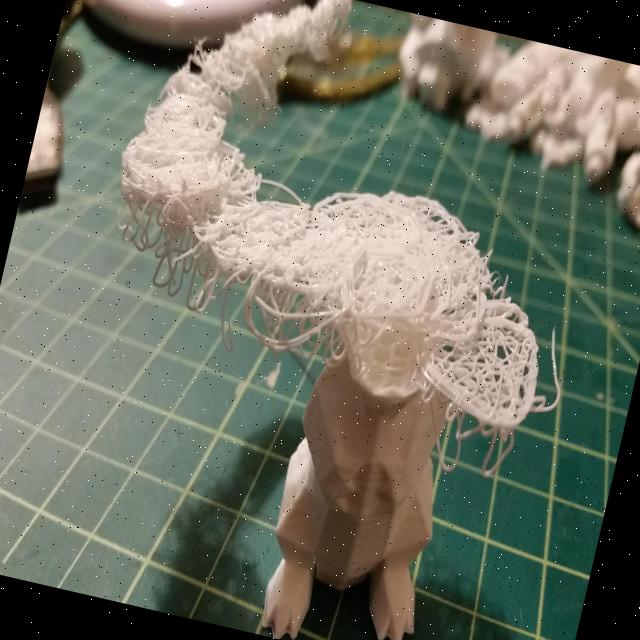spaghetti: (86, 100, 602, 418), (144, 0, 365, 196)
